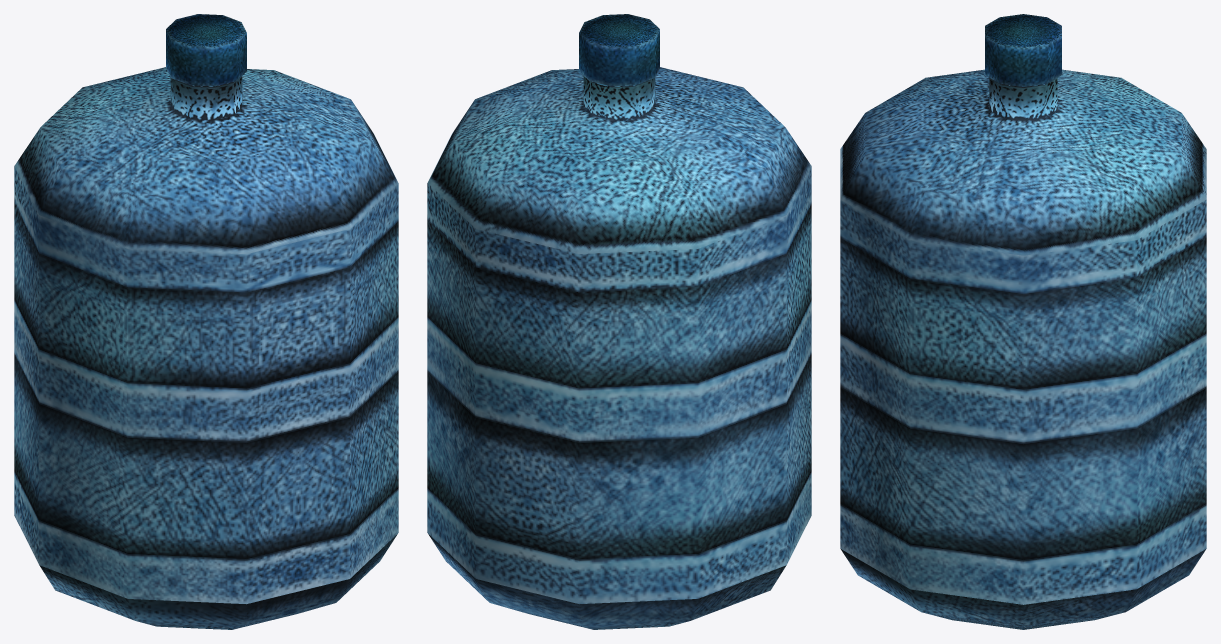
The model's file is BACK_CHIBI_FISHTANK.fbx.
3 views of the same model, side by side, from view 1: azimuth 30°, elevation 25°; view 2: azimuth 150°, elevation 25°; view 3: azimuth 270°, elevation 25° (orthographic).
Visible parts, largest first — view 1: BACK_CHIBI_FISHTANK; view 2: BACK_CHIBI_FISHTANK; view 3: BACK_CHIBI_FISHTANK.
Boxes of the visible parts, box(x1,y1,x2,y2) form: BACK_CHIBI_FISHTANK: box(14, 14, 398, 629); BACK_CHIBI_FISHTANK: box(427, 14, 811, 629); BACK_CHIBI_FISHTANK: box(840, 14, 1206, 629).
Size of the model in its own units: 0.0152 by 0.024 by 0.0144.
